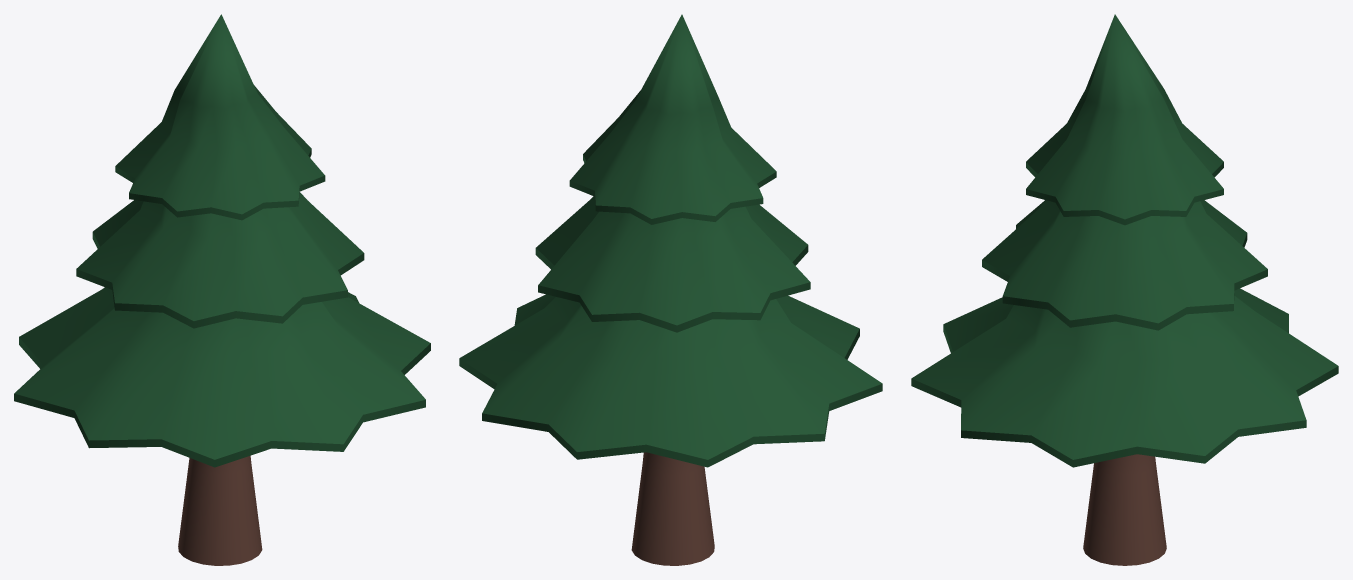
Rendered from Mesh_Tree_01.fbx.
The picture shows the model from 3 angles, left to right: view 1: azimuth 30°, elevation 25°; view 2: azimuth 150°, elevation 25°; view 3: azimuth 270°, elevation 25°; orthographic projection.
Visible parts, largest first — view 1: Tree_base, Tree_middle, Tree_top, Tree_Trunk; view 2: Tree_base, Tree_middle, Tree_top, Tree_Trunk; view 3: Tree_base, Tree_middle, Tree_top, Tree_Trunk.
Boxes of the visible parts, <box> form: Tree_base: <box>14,287,430,467</box>; Tree_middle: <box>76,192,364,328</box>; Tree_top: <box>115,14,325,220</box>; Tree_Trunk: <box>178,455,262,565</box>; Tree_base: <box>459,294,882,467</box>; Tree_middle: <box>535,196,810,332</box>; Tree_top: <box>569,14,776,224</box>; Tree_Trunk: <box>631,452,714,565</box>; Tree_base: <box>911,288,1338,467</box>; Tree_middle: <box>982,200,1267,330</box>; Tree_top: <box>1026,14,1223,225</box>; Tree_Trunk: <box>1083,454,1166,565</box>.
Size of the model in its own units: 77.92 by 110 by 80.12.
